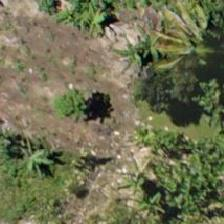Kelapa_Sawit: (139, 0, 223, 91)
